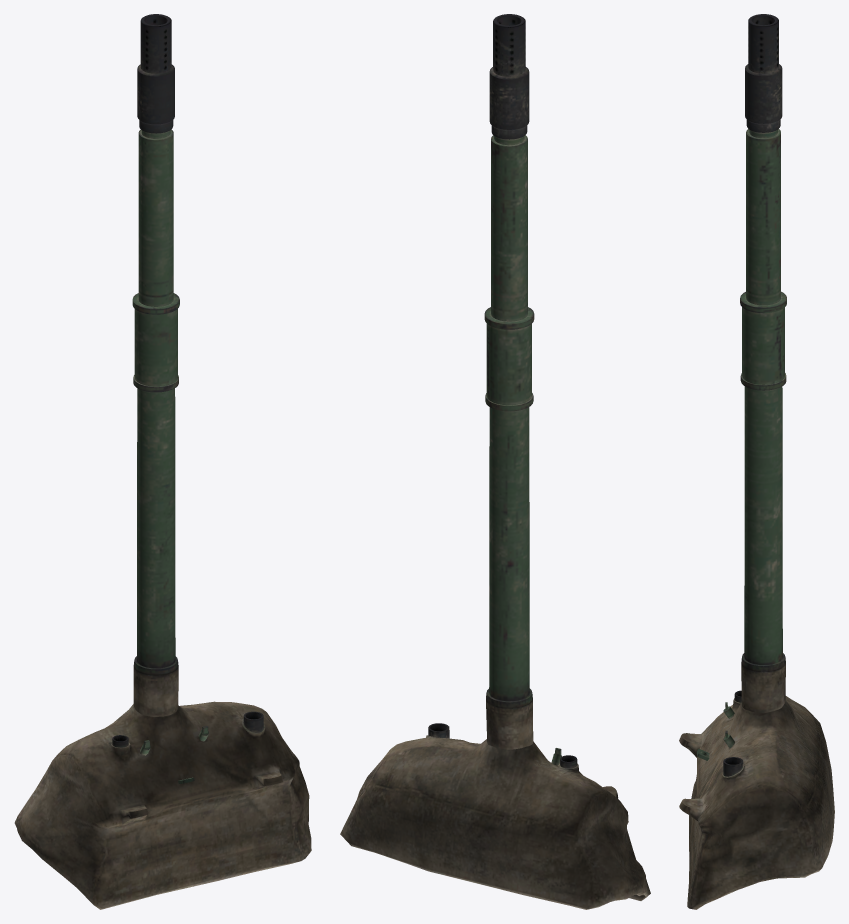
The model's file is Gun_01.glb.
3 views of the same model, side by side, from view 1: azimuth 30°, elevation 25°; view 2: azimuth 150°, elevation 25°; view 3: azimuth 270°, elevation 25° (orthographic). The views are drawn at different scales.
Parts seen in each view (by area): view 1: set_0_group_0; view 2: set_0_group_0; view 3: set_0_group_0.
Part boxes in pixels (<box>): set_0_group_0: <box>14,14,311,909</box>; set_0_group_0: <box>340,14,650,909</box>; set_0_group_0: <box>679,14,834,909</box>.
Size of the model in its own units: 1.29 by 3.98 by 0.6702.
1 material, 1 textured.
